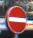No entry: (5, 5, 28, 33)
